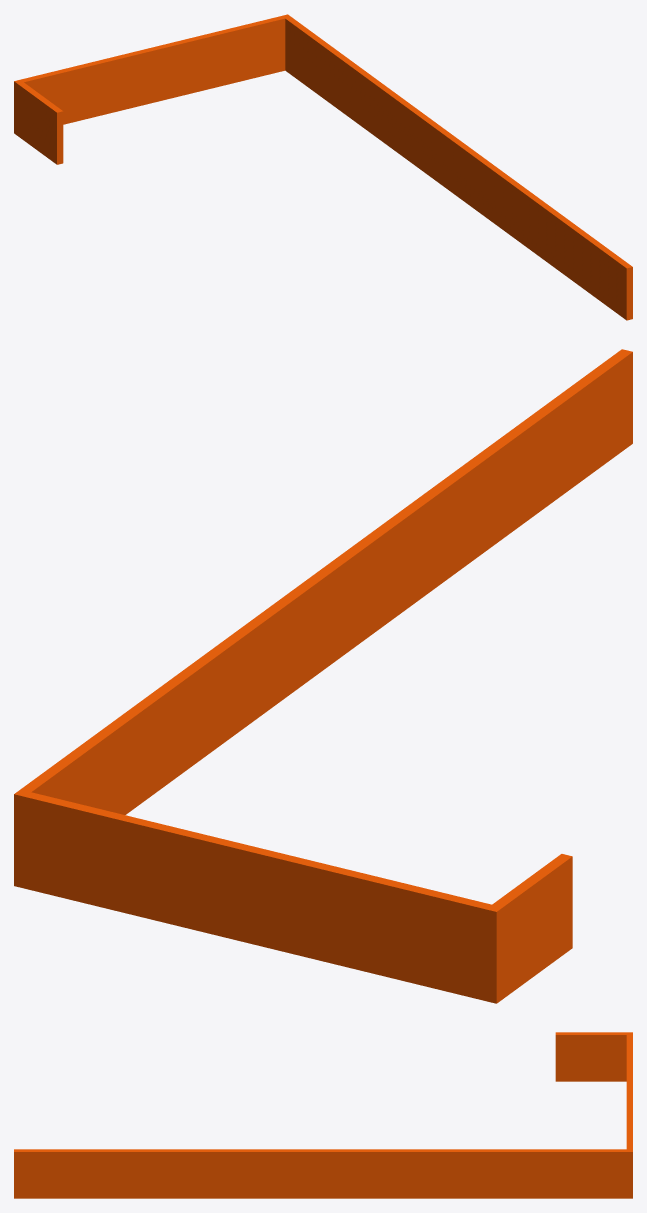
The model's file is Rampe.fbx.
The picture shows the model from 3 angles, top to bottom: view 1: azimuth 30°, elevation 25°; view 2: azimuth 150°, elevation 25°; view 3: azimuth 270°, elevation 25°; orthographic projection. The views are drawn at different scales.
Parts seen in each view (by area): view 1: Rampe; view 2: Rampe; view 3: Rampe.
Part boxes in pixels (x1,y1,x2,y2): Rampe: (14,14,632,320); Rampe: (14,349,632,1003); Rampe: (14,1032,632,1198).
Bounding box in the file's own units: 44 × 8 × 96.
